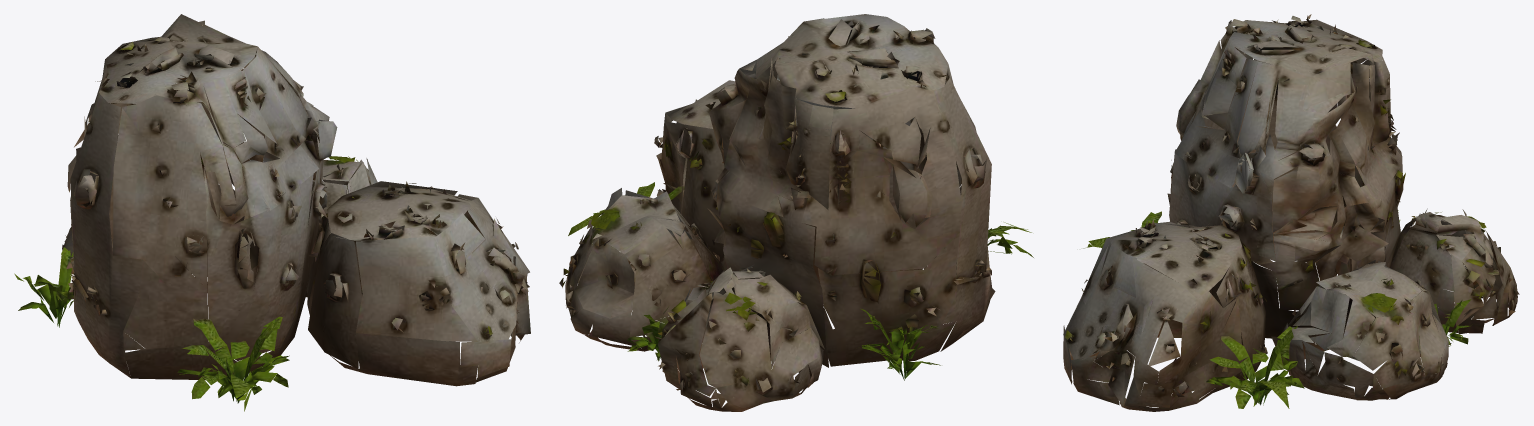
File: jun_boulder_cluster_mossy_a_LOD2.glb
The picture shows the model from 3 angles, left to right: view 1: azimuth 30°, elevation 25°; view 2: azimuth 150°, elevation 25°; view 3: azimuth 270°, elevation 25°; orthographic projection. The views are drawn at different scales.
Parts seen in each view (by area): view 1: tripo_node_2fa632b0-3145-4e0d-9542-0eff213807a1; view 2: tripo_node_2fa632b0-3145-4e0d-9542-0eff213807a1; view 3: tripo_node_2fa632b0-3145-4e0d-9542-0eff213807a1.
Part boxes in pixels (bbox=[...]): tripo_node_2fa632b0-3145-4e0d-9542-0eff213807a1: bbox=[14, 14, 530, 411]; tripo_node_2fa632b0-3145-4e0d-9542-0eff213807a1: bbox=[559, 14, 1033, 411]; tripo_node_2fa632b0-3145-4e0d-9542-0eff213807a1: bbox=[1063, 14, 1519, 411].
Bounding box in the file's own units: 0.979 × 0.6498 × 1.
1 material, 1 textured.
